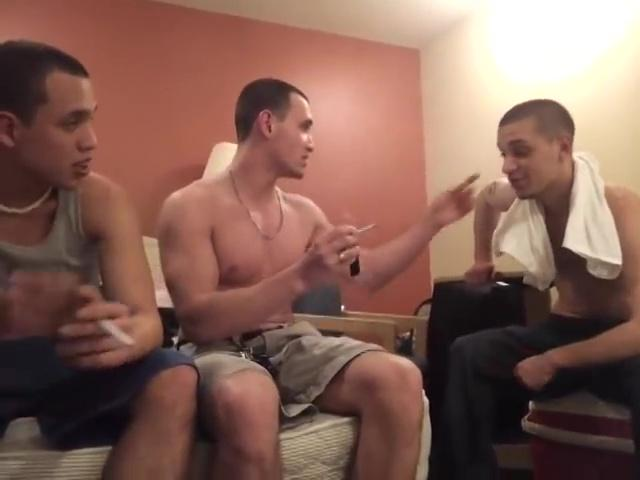cigarette: (92, 313, 139, 351), (350, 221, 380, 235)
